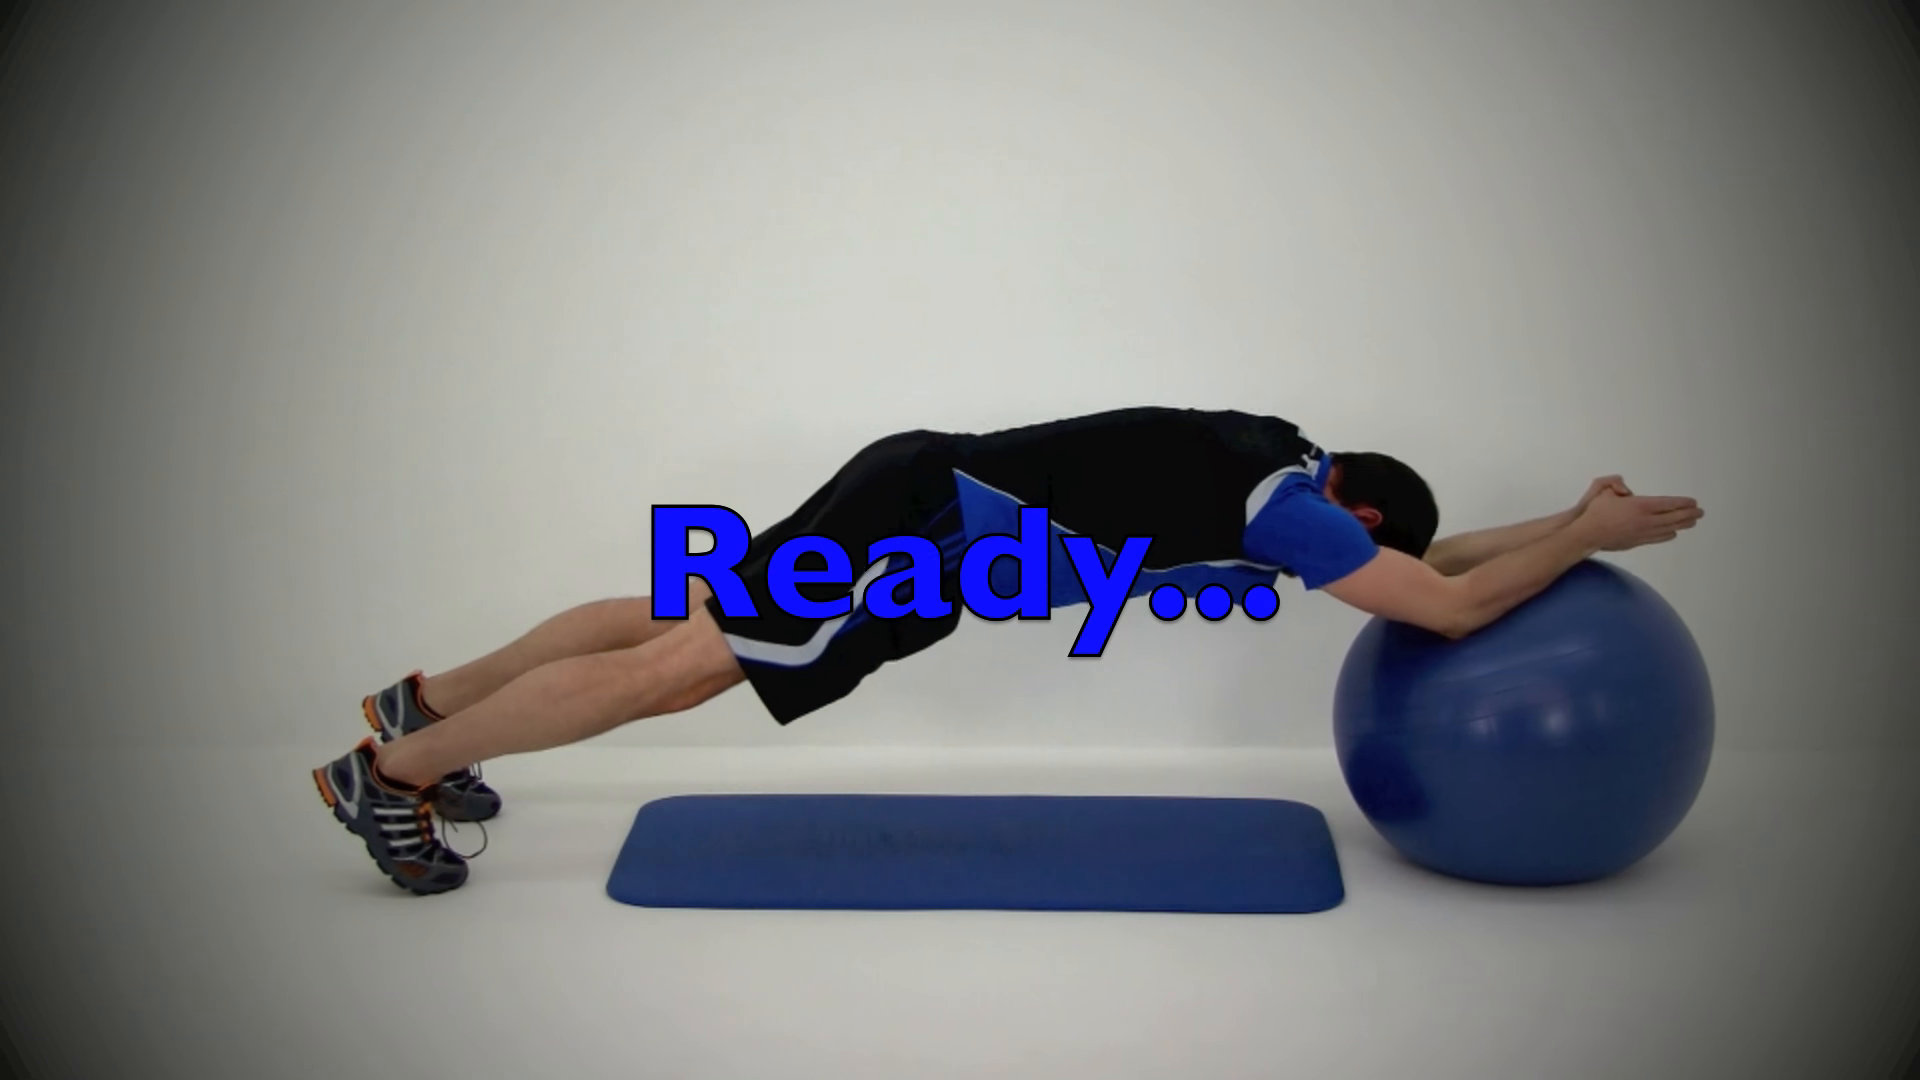yogaball: (1321, 558, 1725, 899)
